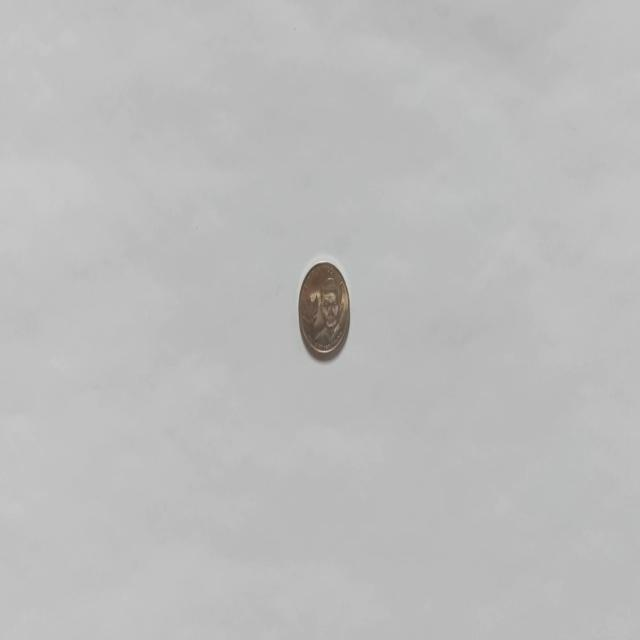seribu rupiah koin: (298, 258, 350, 359)
